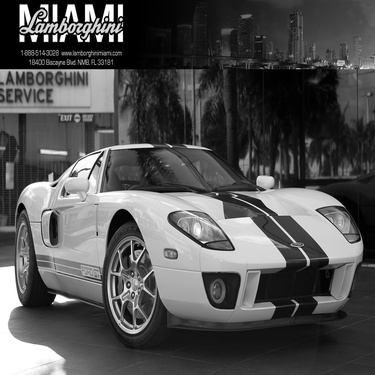car: (10, 139, 365, 348), (318, 164, 371, 252)
